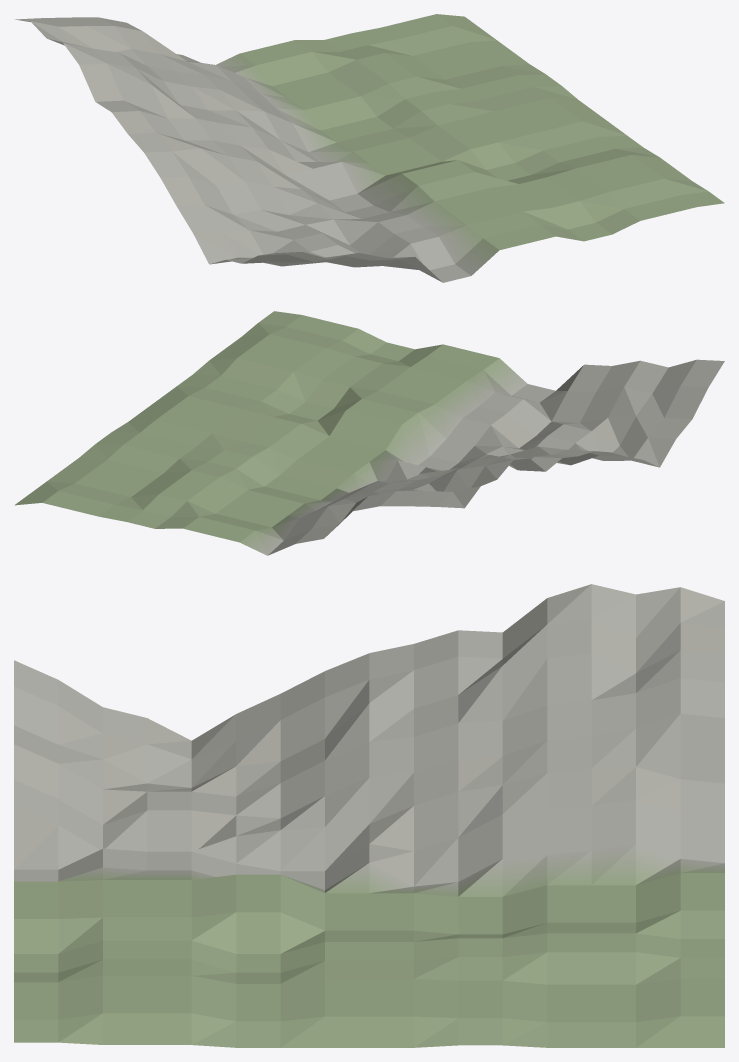
3 renders of one model, top to bottom at view 1: azimuth 30°, elevation 25°; view 2: azimuth 150°, elevation 25°; view 3: azimuth 270°, elevation 25°, orthographic. The views are drawn at different scales.
Size of the model in its own units: 32 by 8.81 by 32.
